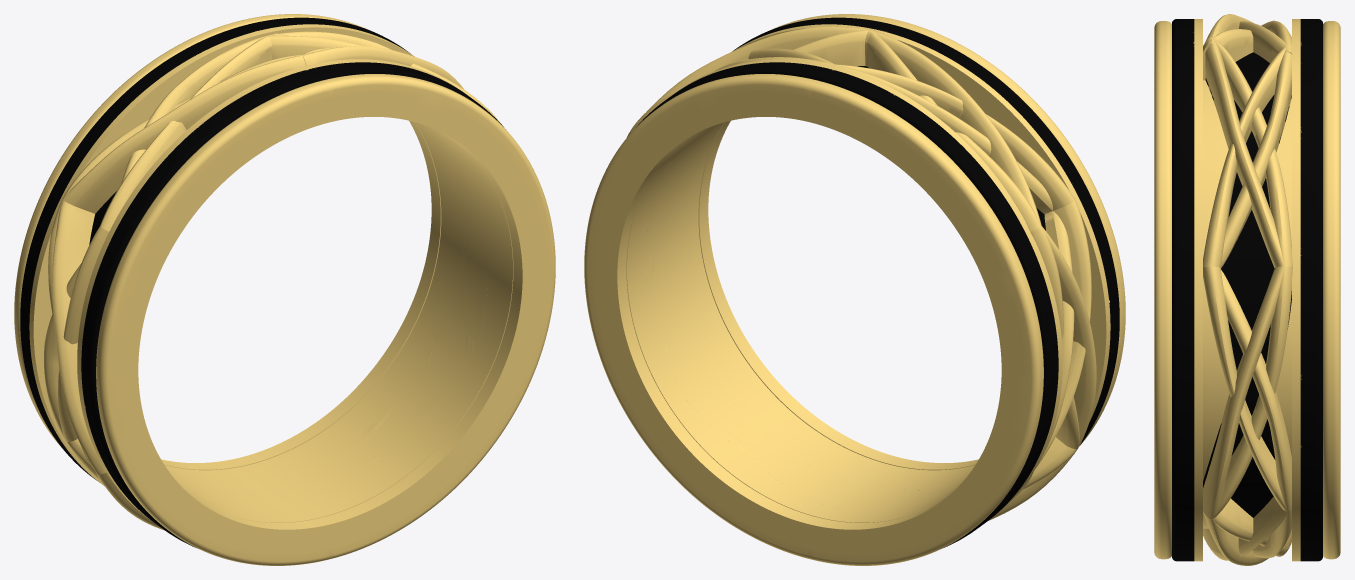
Rendered from Ryan_MC_color_blender.glb.
3 renders of one model, left to right at view 1: azimuth 30°, elevation 25°; view 2: azimuth 150°, elevation 25°; view 3: azimuth 270°, elevation 25°, orthographic. The views are drawn at different scales.
Visible parts, largest first — view 1: V2 color it border YG for 3d model.002, V2 color it border YG for 3d model.005, V2 color it border YG for 3d model, V2 color it black for 3d model, V2 color it border YG for 3d model.001, V2 color it border YG for 3d model.003, V2 color it border YG for 3d model.004; view 2: V2 color it border YG for 3d model.001, V2 color it border YG for 3d model.005, V2 color it border YG for 3d model, V2 color it black for 3d model, V2 color it border YG for 3d model.002, V2 color it border YG for 3d model.004, V2 color it border YG for 3d model.003; view 3: V2 color it border YG for 3d model.005, V2 color it black for 3d model, V2 color it border YG for 3d model.001, V2 color it border YG for 3d model.002, V2 color it border YG for 3d model, V2 color it border YG for 3d model.003, V2 color it border YG for 3d model.004.
Part boxes in pixels (x1,y1,x2,y2): V2 color it border YG for 3d model.002: (96, 74, 555, 565); V2 color it border YG for 3d model.005: (44, 31, 503, 530); V2 color it border YG for 3d model: (164, 122, 513, 522); V2 color it black for 3d model: (20, 17, 503, 547); V2 color it border YG for 3d model.001: (14, 14, 441, 470); V2 color it border YG for 3d model.003: (29, 24, 414, 486); V2 color it border YG for 3d model.004: (77, 59, 460, 517); V2 color it border YG for 3d model.001: (584, 74, 1043, 565); V2 color it border YG for 3d model.005: (626, 26, 1096, 520); V2 color it border YG for 3d model: (626, 122, 975, 522); V2 color it black for 3d model: (636, 17, 1119, 547); V2 color it border YG for 3d model.002: (698, 14, 1125, 470); V2 color it border YG for 3d model.004: (734, 24, 1110, 421); V2 color it border YG for 3d model.003: (679, 59, 1062, 517); V2 color it border YG for 3d model.005: (1203, 14, 1292, 565); V2 color it black for 3d model: (1172, 19, 1322, 561); V2 color it border YG for 3d model.001: (1323, 21, 1340, 559); V2 color it border YG for 3d model.002: (1154, 21, 1171, 559); V2 color it border YG for 3d model: (1203, 80, 1291, 528); V2 color it border YG for 3d model.003: (1292, 19, 1301, 561); V2 color it border YG for 3d model.004: (1193, 19, 1202, 561).
Bounding box in the file's own units: 22.53 × 22.87 × 7.62.
